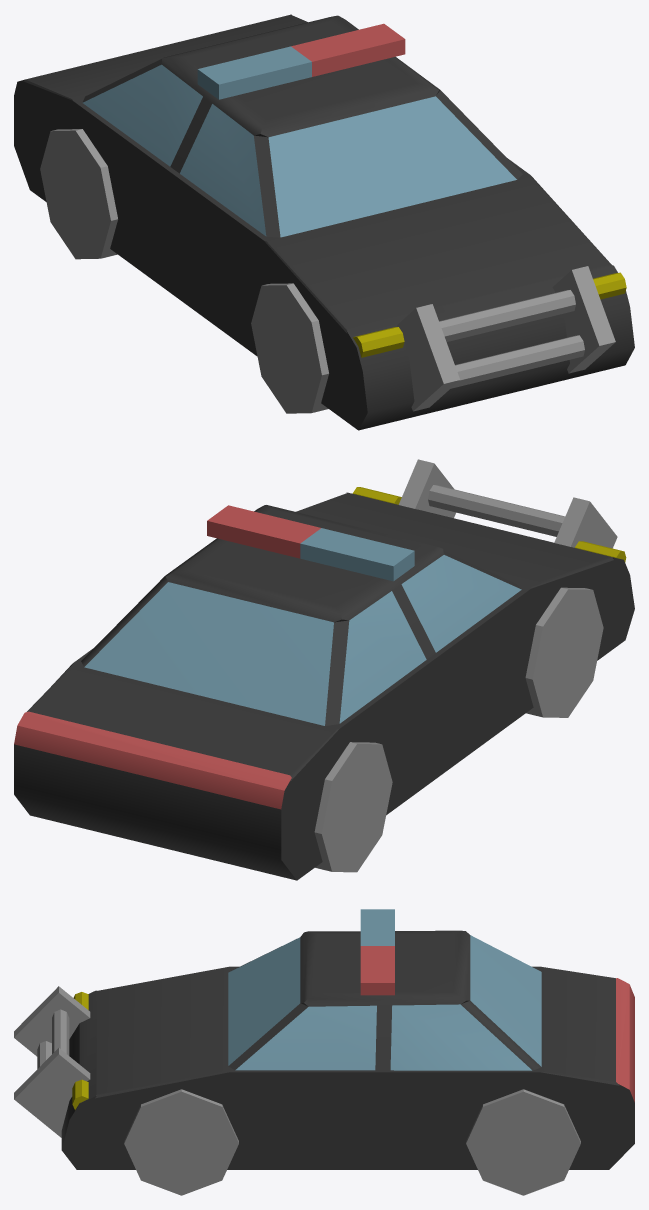
The model's file is CopCar.fbx.
3 renders of one model, top to bottom at view 1: azimuth 30°, elevation 25°; view 2: azimuth 150°, elevation 25°; view 3: azimuth 270°, elevation 25°, orthographic. The views are drawn at different scales.
Visible parts, largest first — view 1: pCylinder7; view 2: pCylinder7; view 3: pCylinder7.
Part boxes in pixels (left/top/right/bottom): pCylinder7: left=14, top=14, right=634, bottom=430; pCylinder7: left=14, top=459, right=634, bottom=880; pCylinder7: left=14, top=909, right=634, bottom=1195.
Size of the model in its own units: 34.75 by 28.11 by 82.16.
